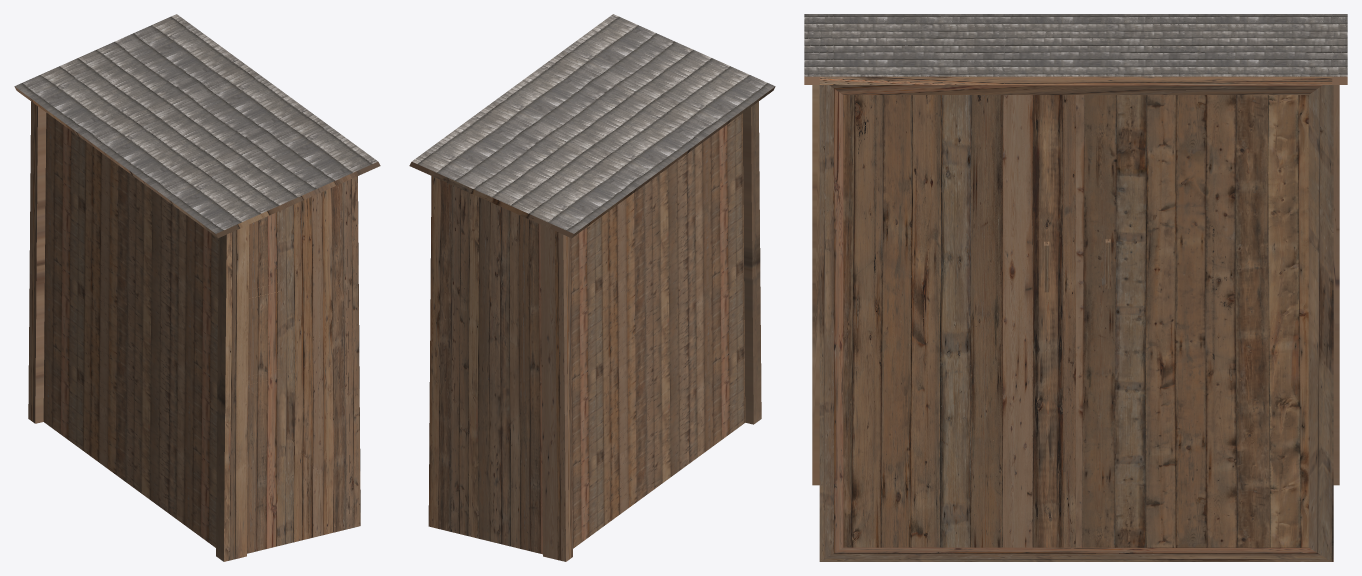
The model's file is shed.fbx.
3 renders of one model, left to right at view 1: azimuth 30°, elevation 25°; view 2: azimuth 150°, elevation 25°; view 3: azimuth 270°, elevation 25°, orthographic. The views are drawn at different scales.
Parts seen in each view (by area): view 1: Shed; view 2: Shed; view 3: Door2, Door1, Shed.
Part boxes in pixels (x1,y1,x2,y2): Shed: (14,14,380,561); Shed: (409,14,775,561); Door2: (1076,95,1308,547); Door1: (843,95,1075,547); Shed: (804,14,1347,561).
Bounding box in the file's own units: 100 × 212 × 212.
